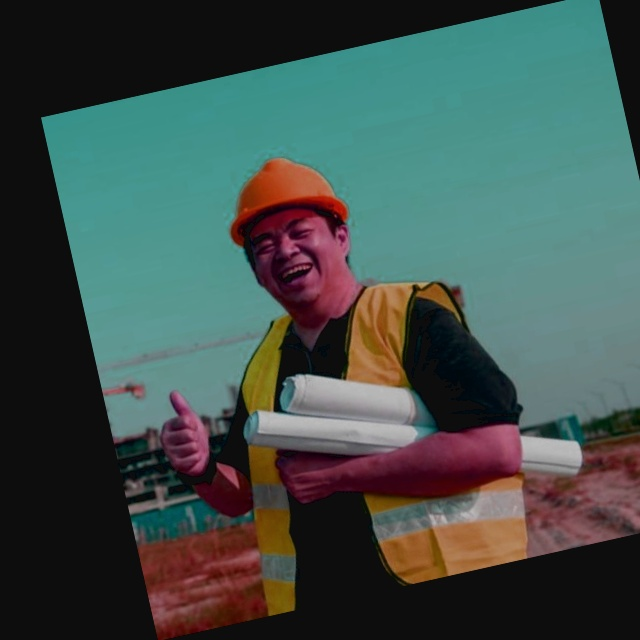Con_Casco: (213, 141, 366, 318)
Con_Chaleco: (197, 267, 528, 618)
